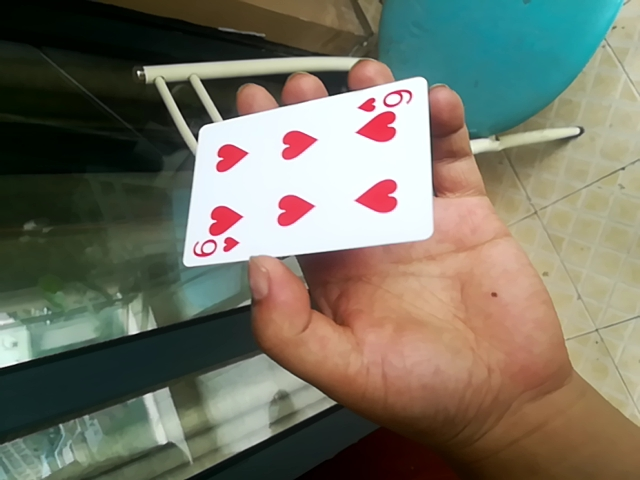hx 6: (177, 79, 431, 270)
